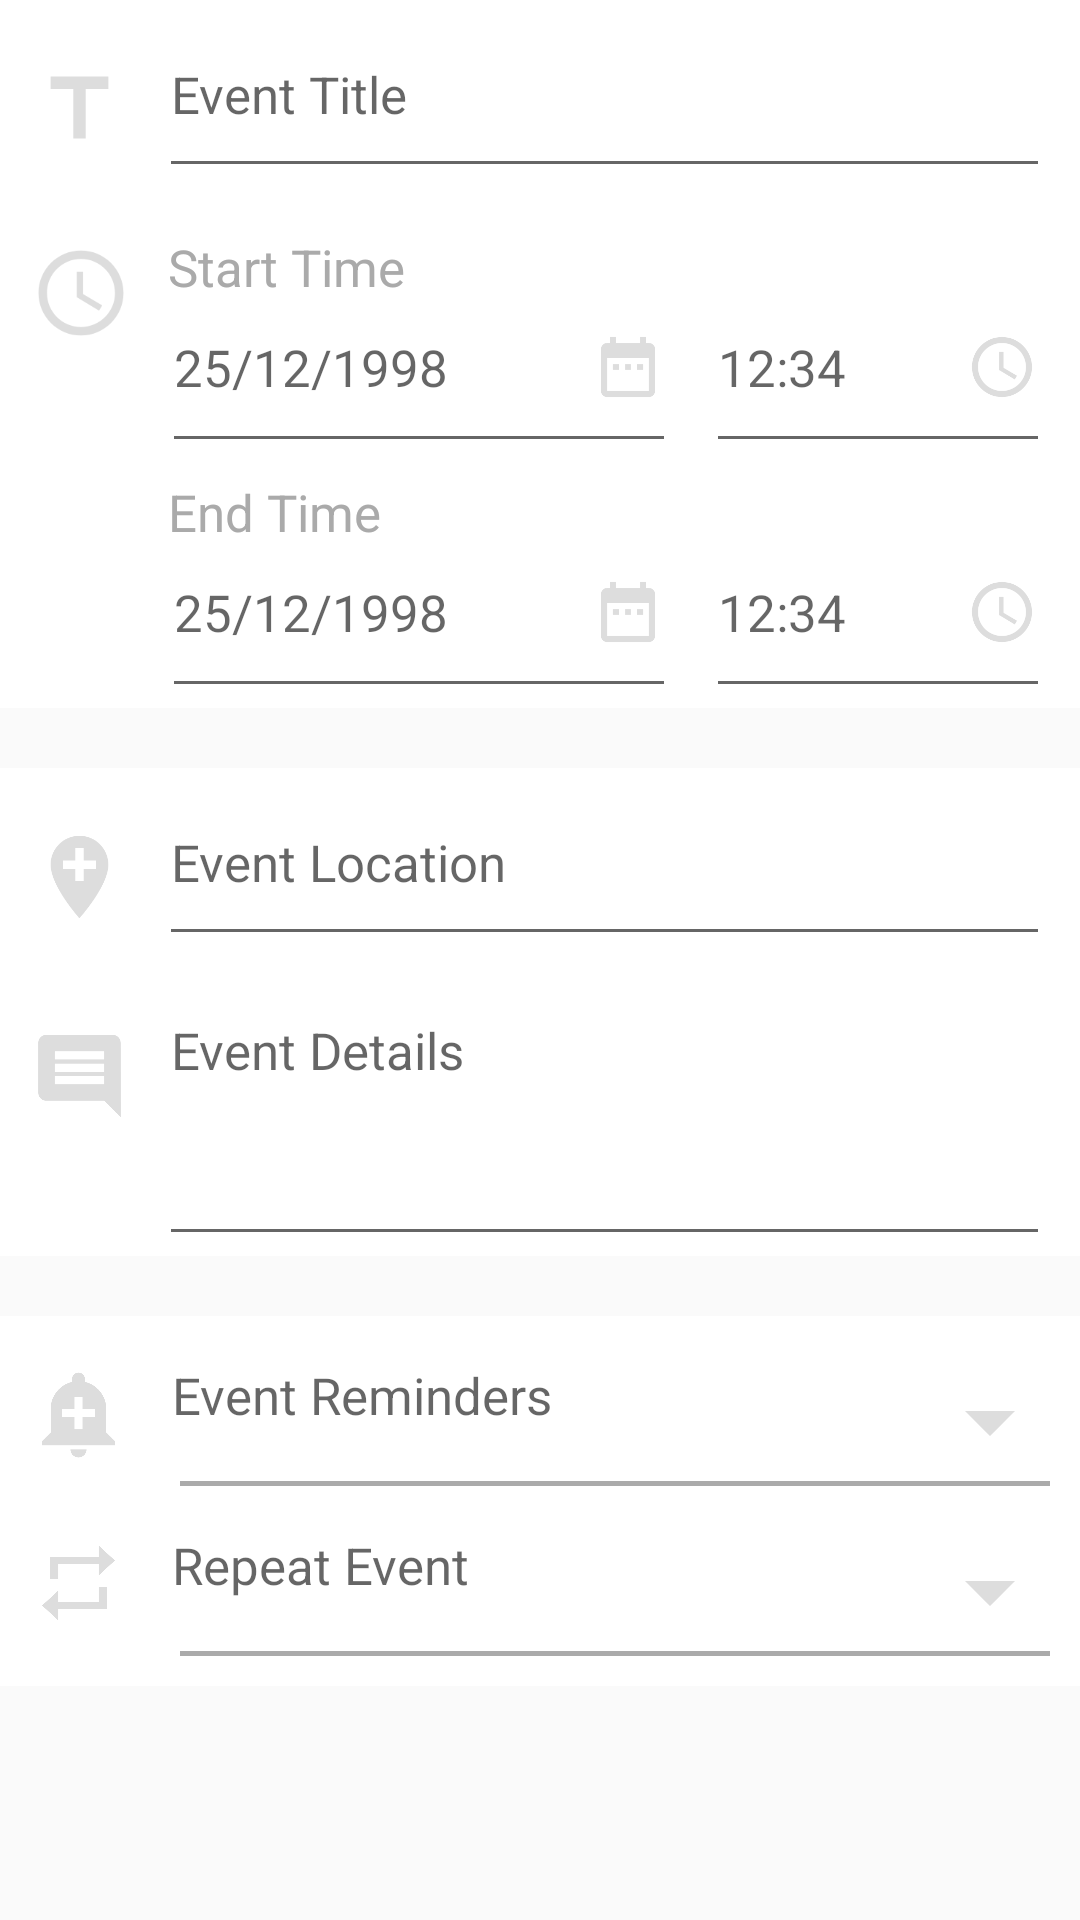

Where to tap for icons on this 1080*1920 app screen, as [x,y]:
event time: [81,293]
